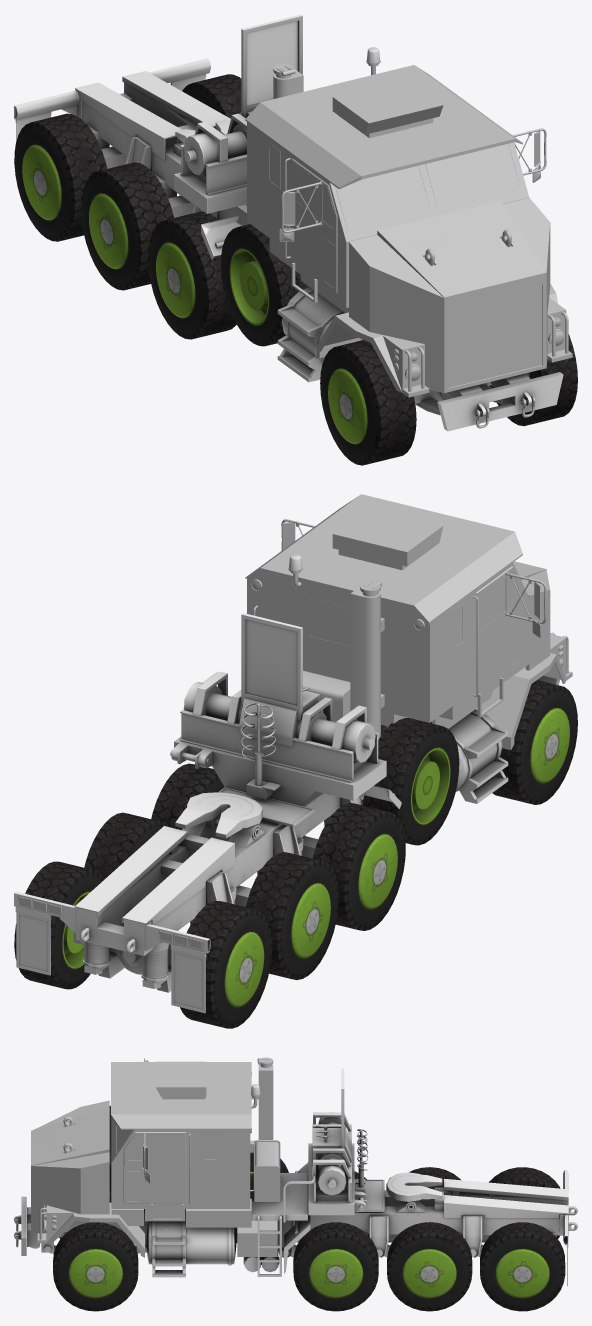
The model's file is truck25.dae.
3 views of the same model, one above another, from view 1: azimuth 30°, elevation 25°; view 2: azimuth 150°, elevation 25°; view 3: azimuth 270°, elevation 25° (orthographic). The views are drawn at different scales.
Visible parts, largest first — view 1: Het, Wheel.004, Wheel.007, Wheel.008, Wheel.005, Wheel.006, Wheel, Wheel.003; view 2: Het, Wheel.005, Wheel.007, Wheel.006, Wheel.008, Wheel.004, Wheel.003, Wheel.002, Wheel.001; view 3: Het, Wheel.002, Wheel, Wheel.003, Wheel.001, Wheel.008, Wheel.007.
Part boxes in pixels (x1,y1,x2,y2): Het: (14, 14, 572, 431); Wheel.004: (320, 340, 416, 465); Wheel.007: (81, 162, 173, 290); Wheel.008: (14, 113, 107, 241); Wheel.005: (148, 211, 236, 339); Wheel.006: (221, 224, 308, 346); Wheel: (489, 334, 577, 426); Wheel.003: (182, 74, 241, 118); Het: (14, 494, 572, 1013); Wheel.005: (312, 803, 405, 930); Wheel.007: (246, 852, 338, 979); Wheel.006: (363, 718, 459, 845); Wheel.008: (180, 901, 271, 1028); Wheel.004: (492, 680, 577, 804); Wheel.003: (14, 861, 104, 989); Wheel.002: (84, 812, 168, 878); Wheel.001: (151, 763, 224, 829); Het: (14, 1057, 577, 1286); Wheel.002: (387, 1222, 472, 1311); Wheel: (53, 1222, 138, 1311); Wheel.003: (480, 1222, 565, 1311); Wheel.001: (293, 1222, 378, 1311); Wheel.008: (489, 1167, 560, 1238); Wheel.007: (409, 1167, 460, 1189).
Size of the model in its own units: 3.64 by 9.62 by 3.87.
